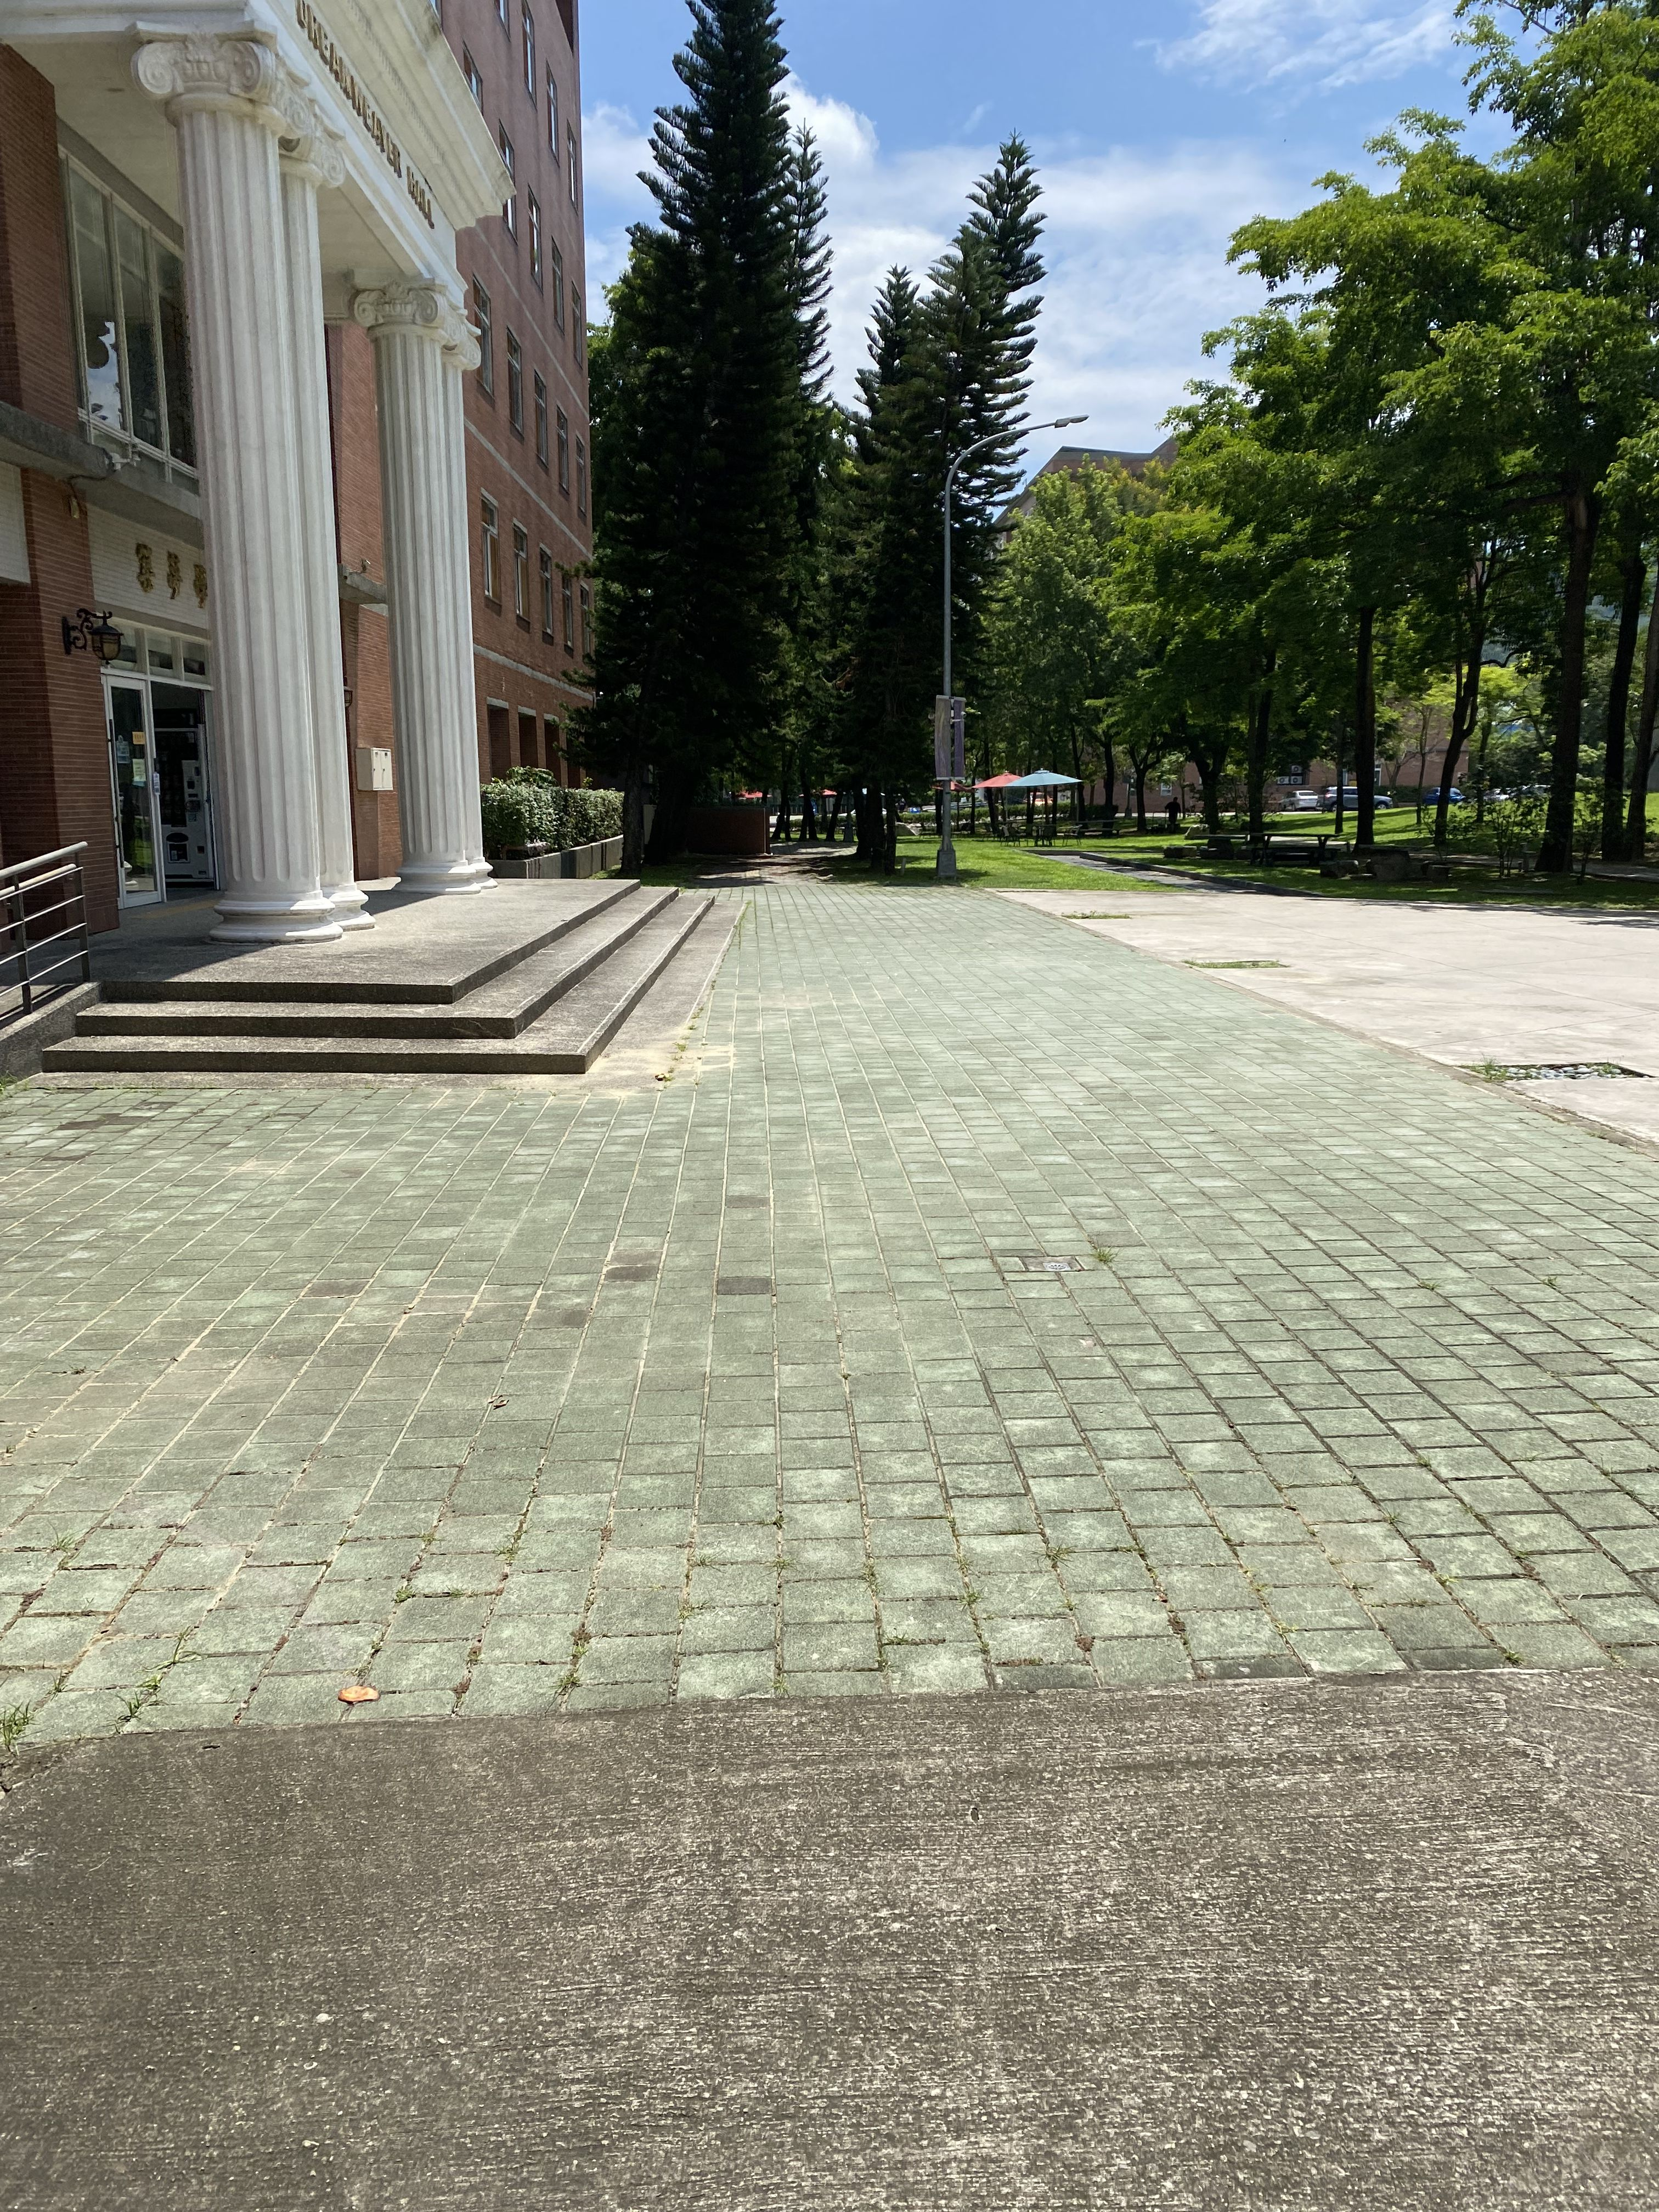0: (3, 984, 748, 2212)
sidewalk: (509, 792, 1659, 2212)
